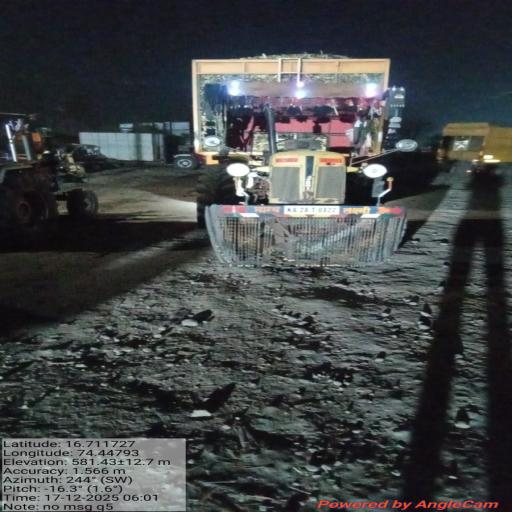number_plate: (284, 205, 340, 215)
